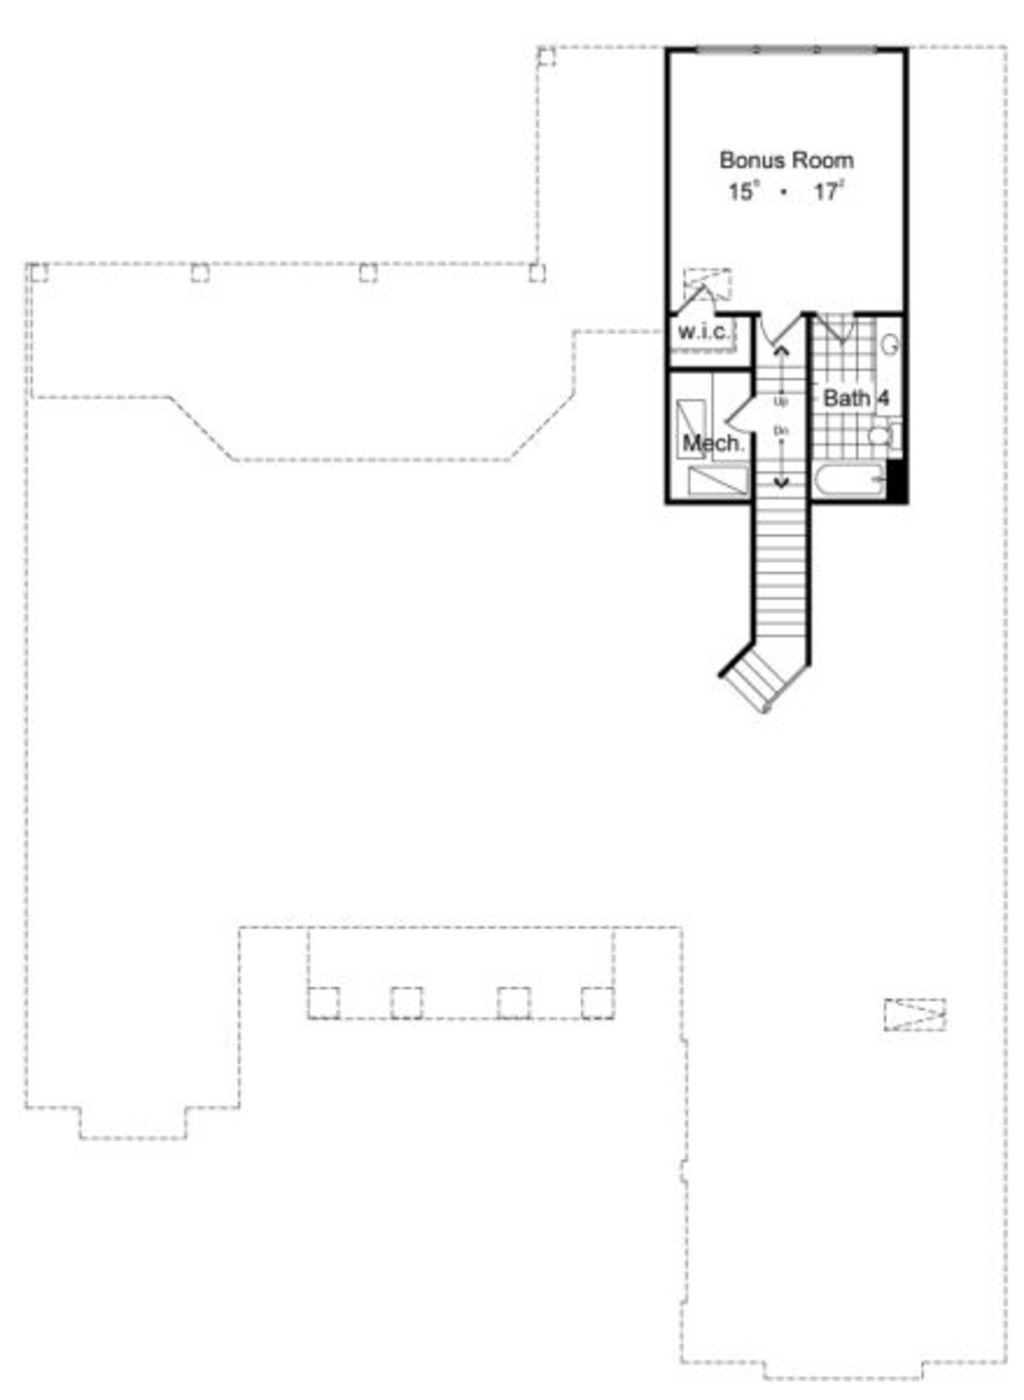door: (661, 286, 725, 323), (719, 393, 770, 433), (817, 304, 866, 343), (755, 307, 804, 343)
large_sink: (849, 412, 904, 452)
stairs: (716, 345, 819, 714)
tub: (812, 455, 895, 507)
